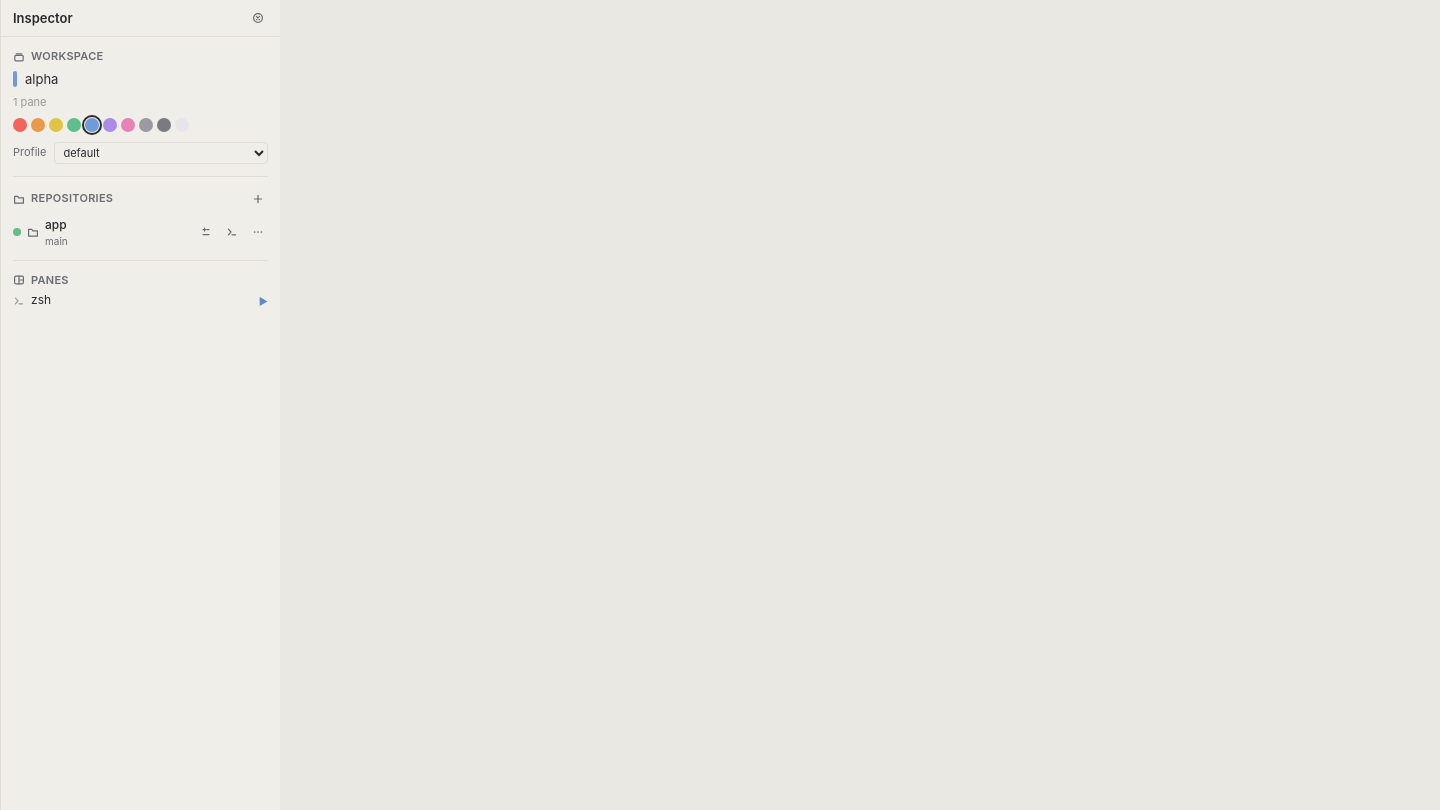
Test: the sheet shell (§H12) › a mousedown on the scrim cancels
Click the button with test id "inspector-add-repo" at (258, 199), box [248, 189, 268, 209]
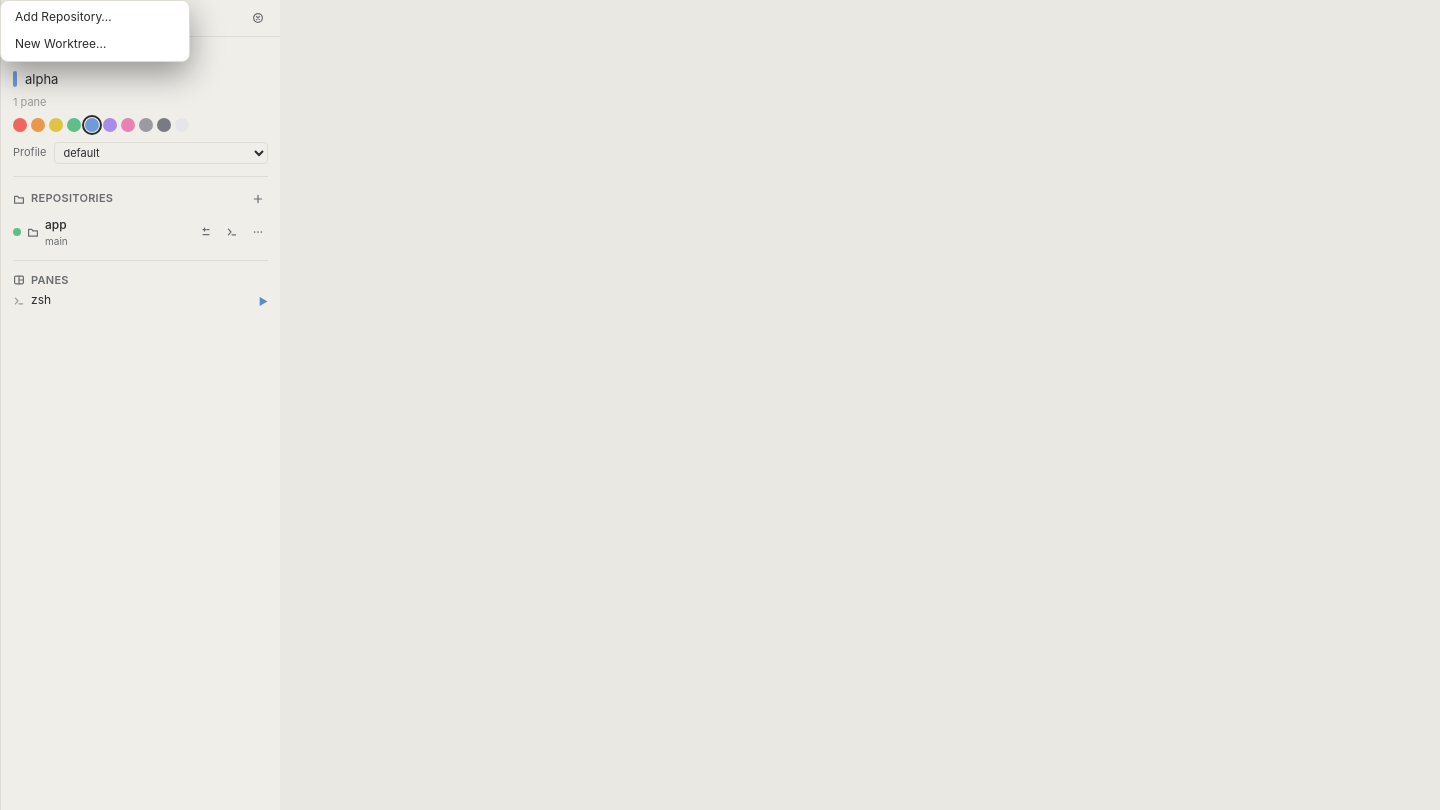
Click the menu item "Add Repository…" at (95, 17), box [5, 5, 185, 30]
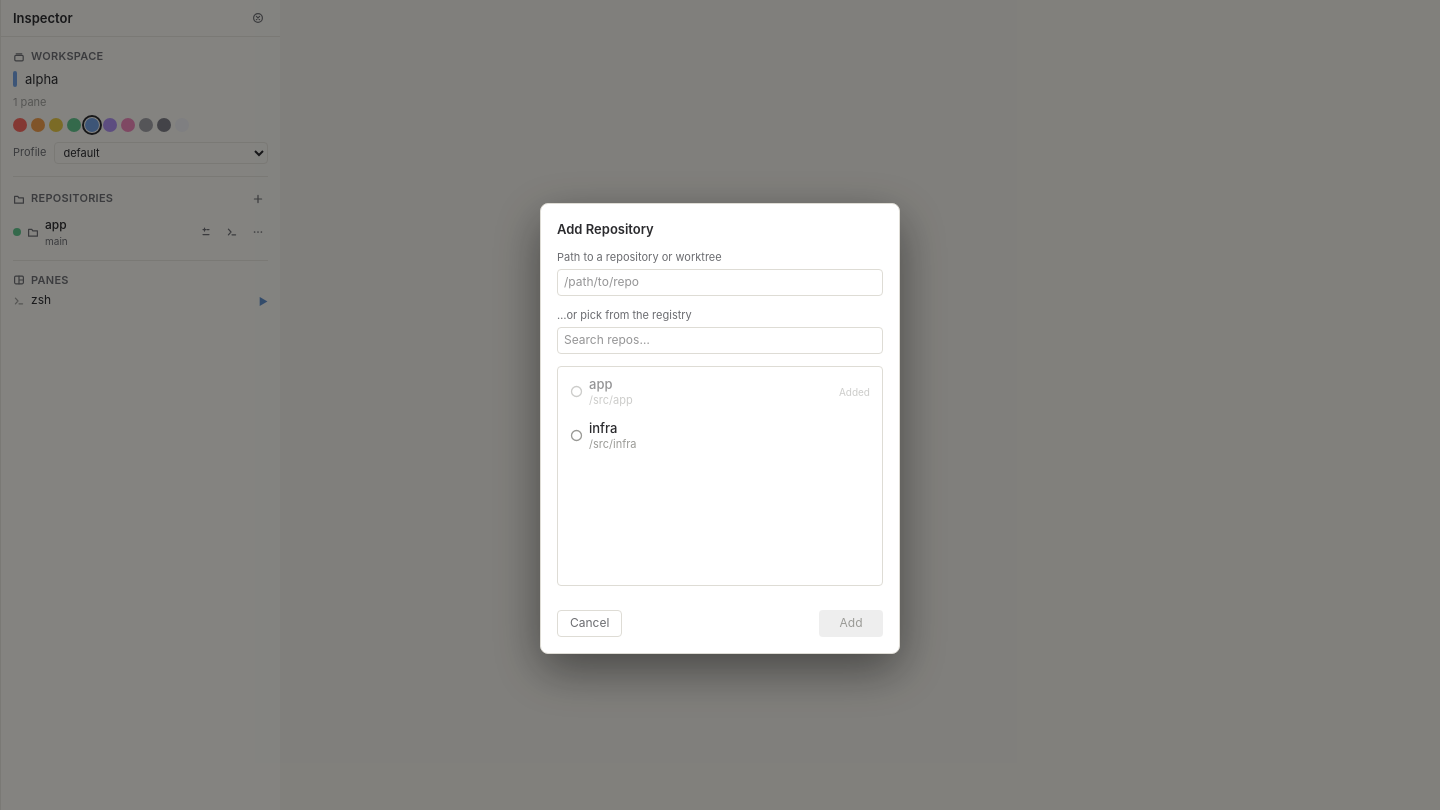
Press the mouse on the element with test id "add-repo-sheet-backdrop" at (720, 405), box [0, 0, 1439, 809]
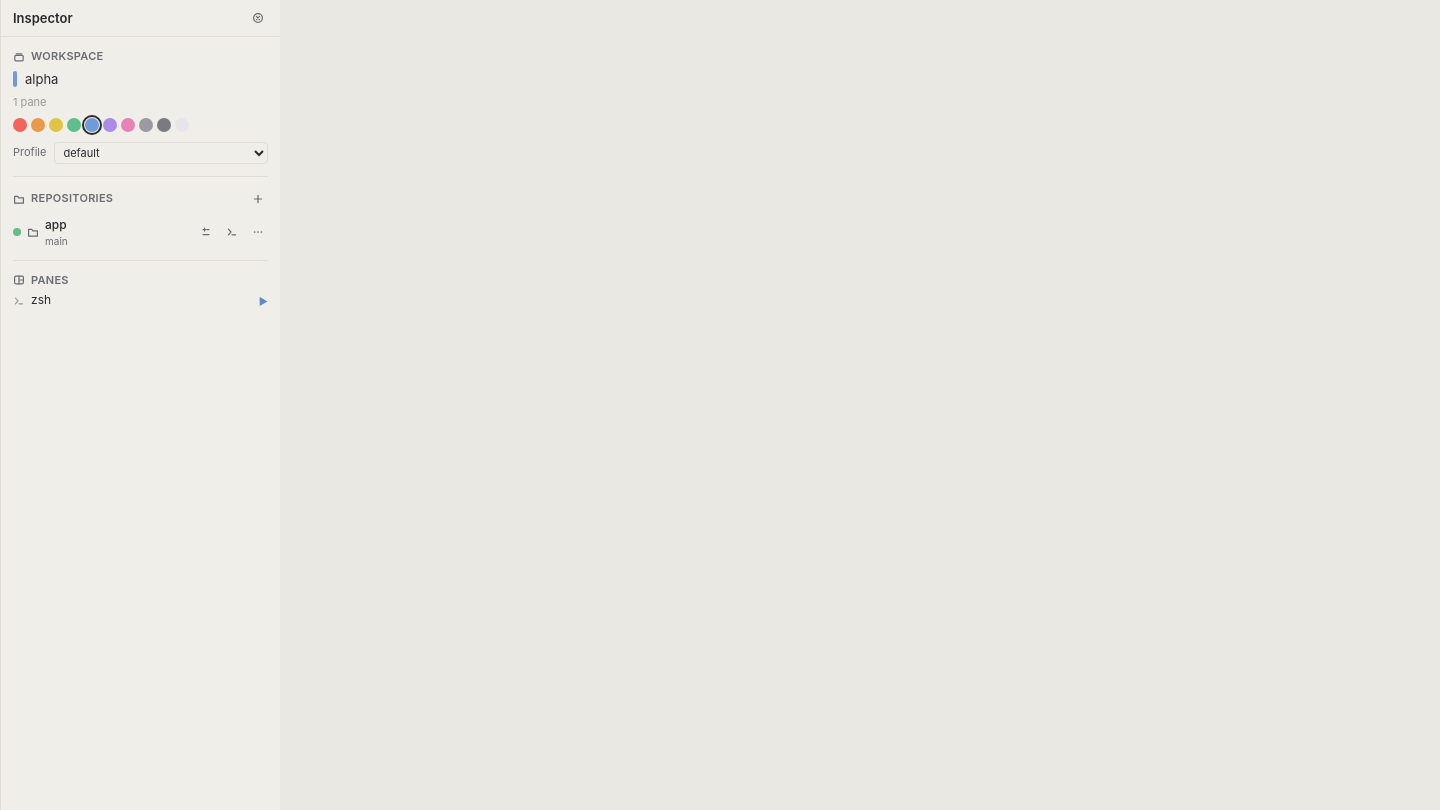
Now the dialog with test id "add-repo-sheet" is gone
